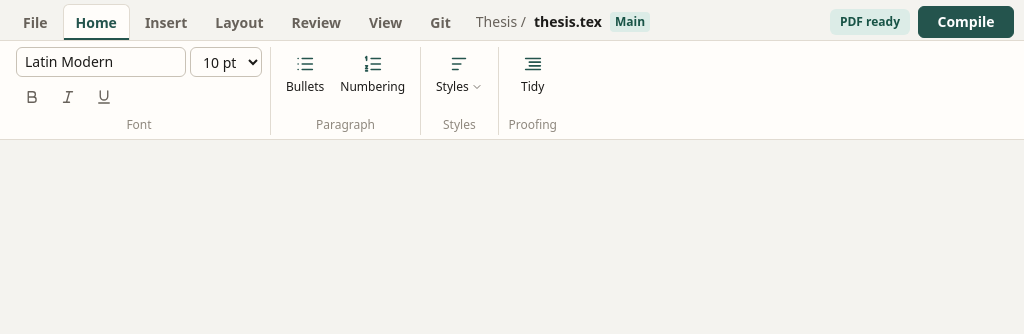
it: Ribbon panels › Home → Styles applies headings
The width and height of the screenshot is (1024, 334).
Click the button "Styles" at (459, 75), box [429,47,490,103]
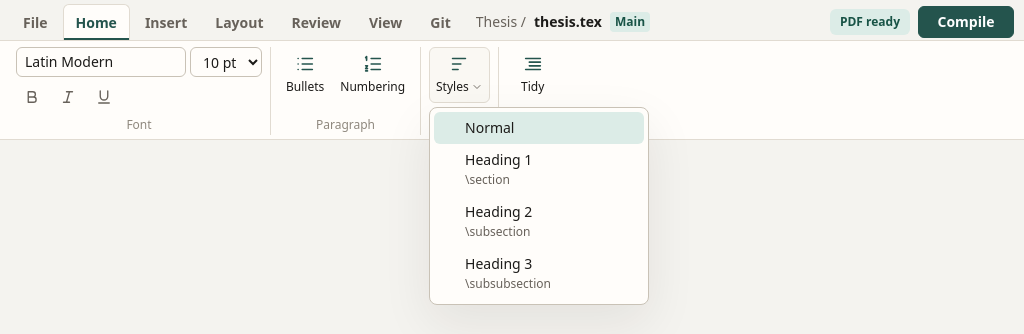
Click the menu item "Heading 2 \\subsection" at (539, 222), box [434,196,644,248]
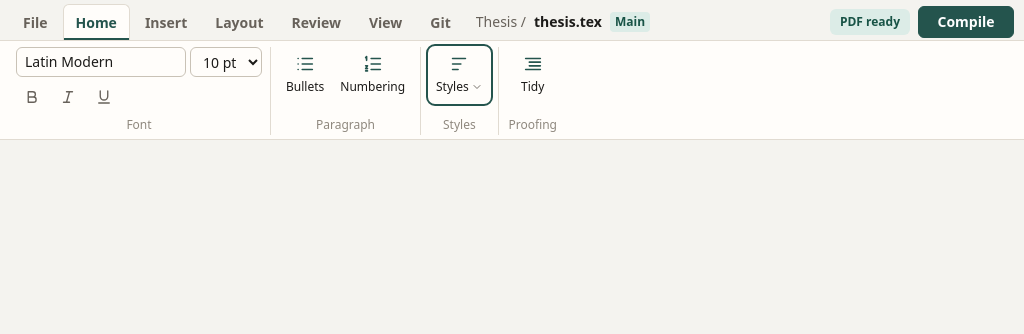
expect the menu is gone: met
